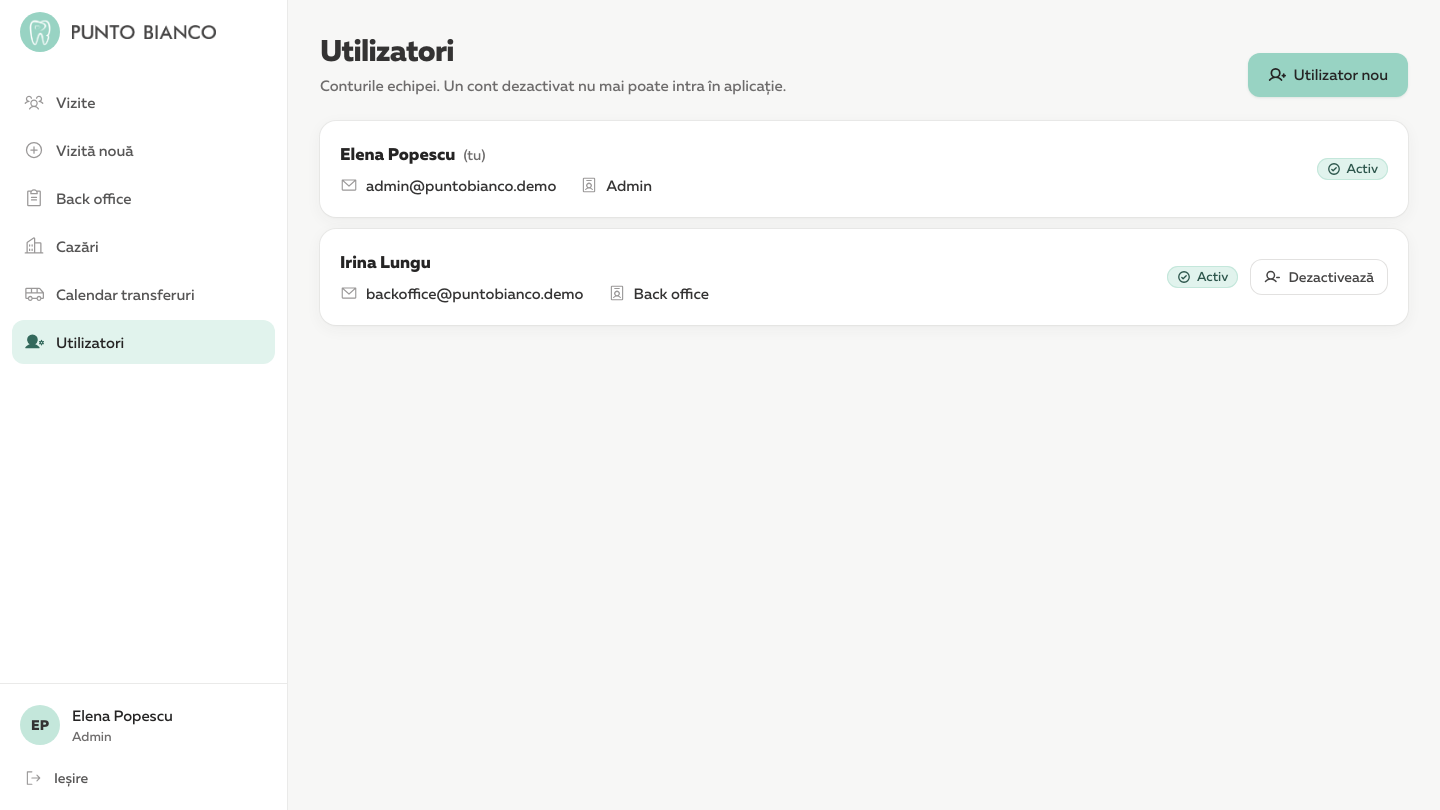
Scenario: pagina Utilizatori › eroare la dezactivare: mesajul apare, rândul rămâne neschimbat
The image size is (1440, 810).
Click the button with aria-label "Dezactivează contul lui Irina Lungu". click: click(1319, 276)
box: [1250,258,1388,294]
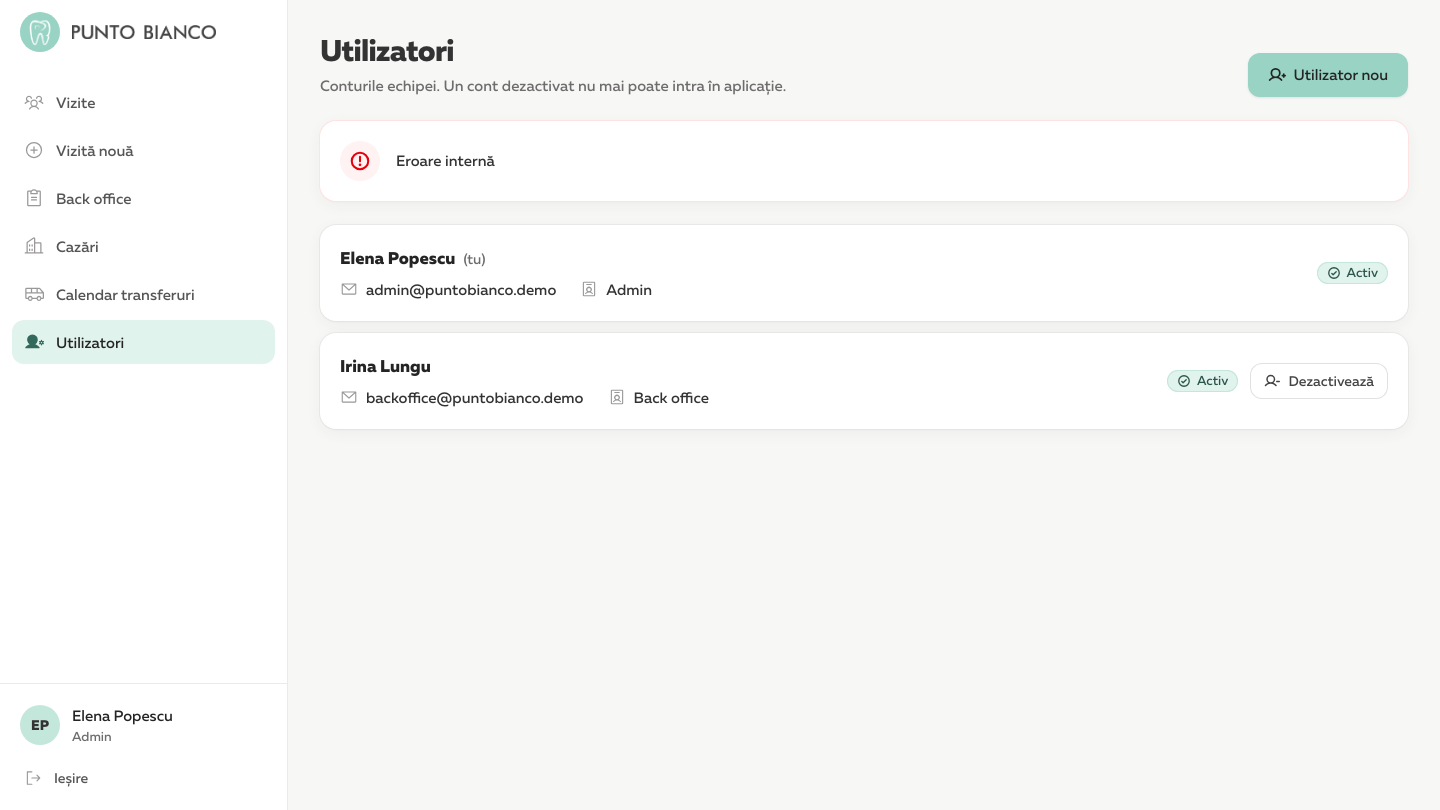
expect the text "Activ" in the row of "Irina Lungu" is shown: met, box [1197,372,1228,388]
expect the message reads "Eroare internă": met, box [396,151,495,169]
